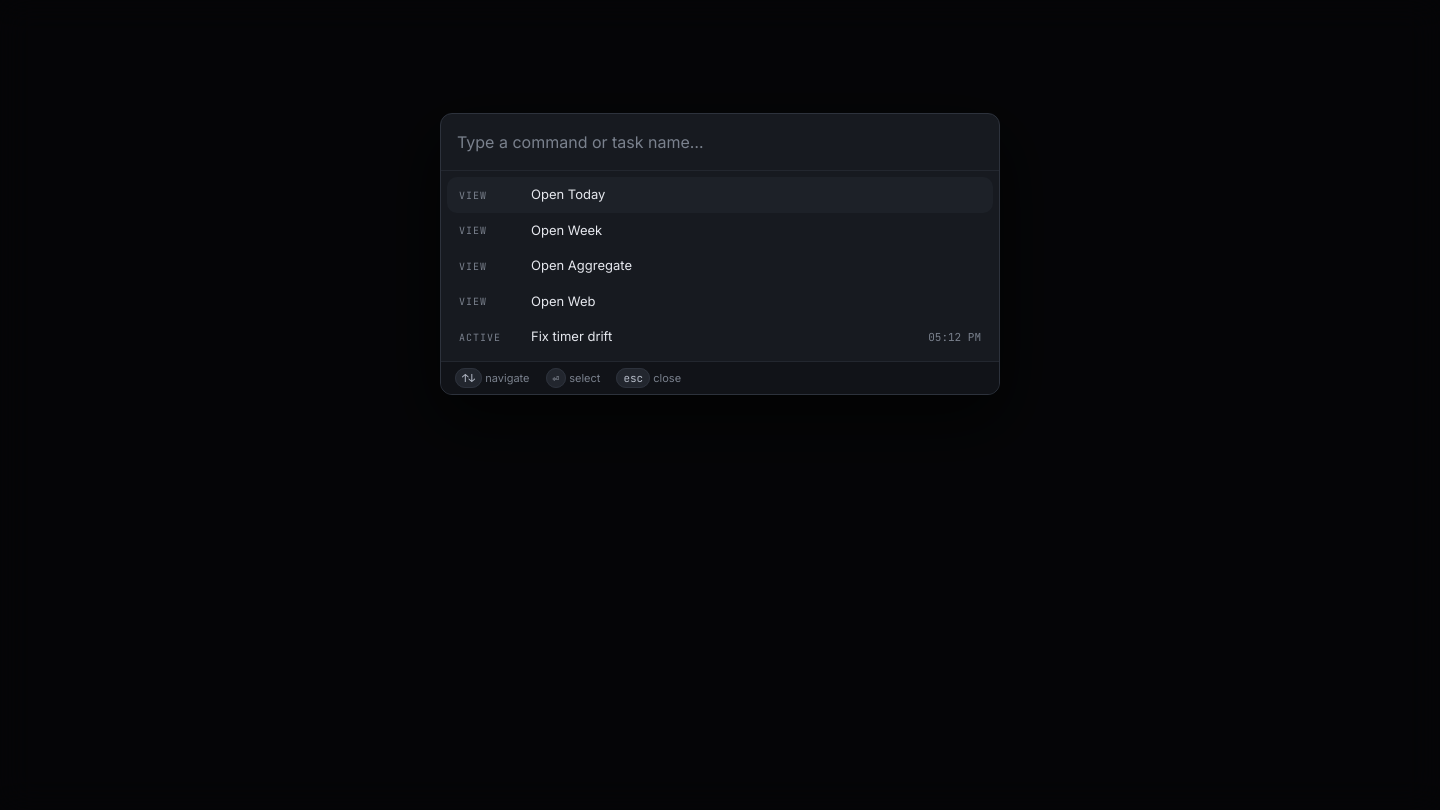
Test case: CommandBar › filters items as the user types
Type "timer" into the field with placeholder "Type a command or task name…".
click(720, 143); type("timer")  # box left=441, top=114, right=999, bottom=171
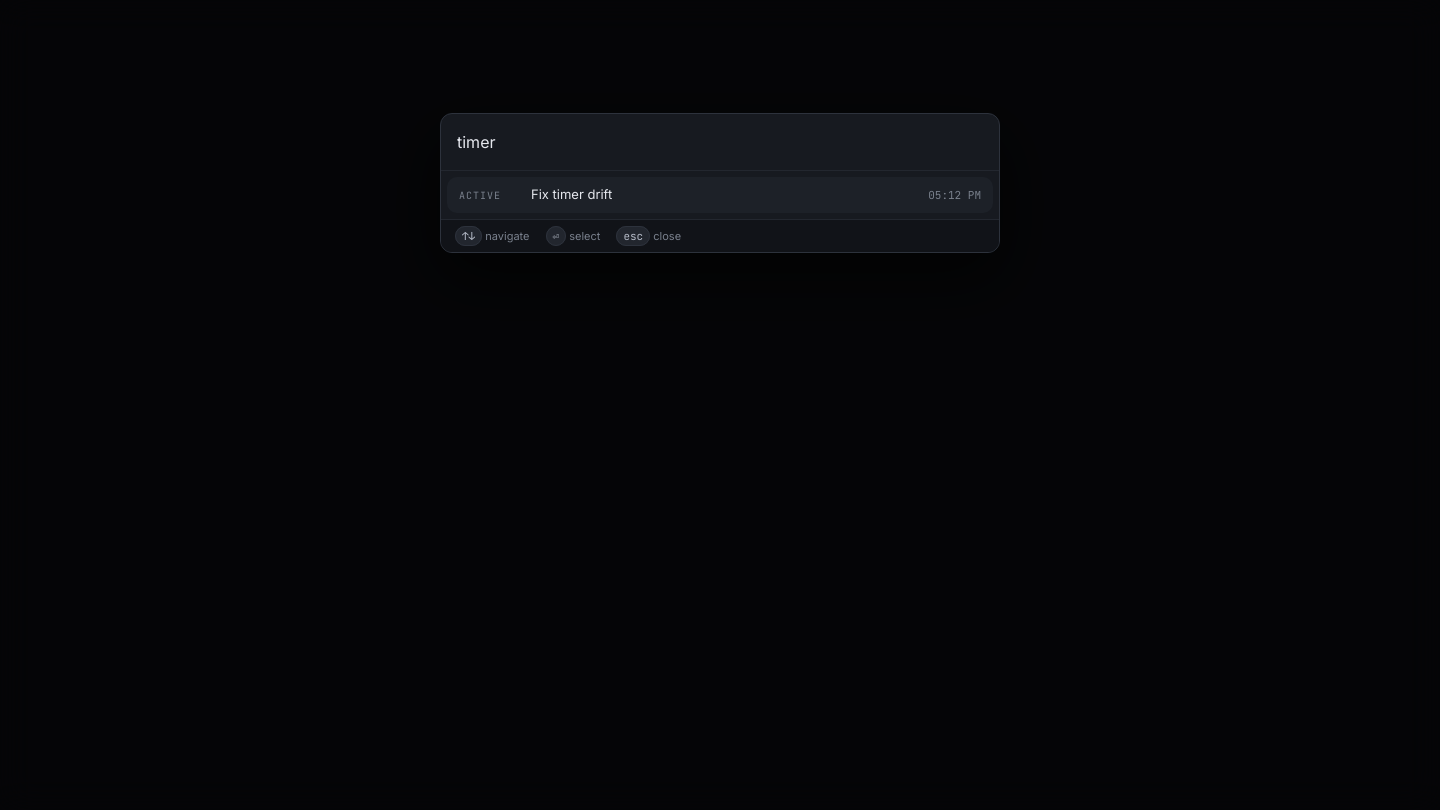
Expected: the text "Fix timer drift" is shown, left=531, top=185, right=612, bottom=205
Expected: the text "Open Today" is gone
